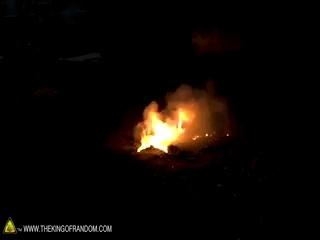Fire: (135, 104, 199, 154)
